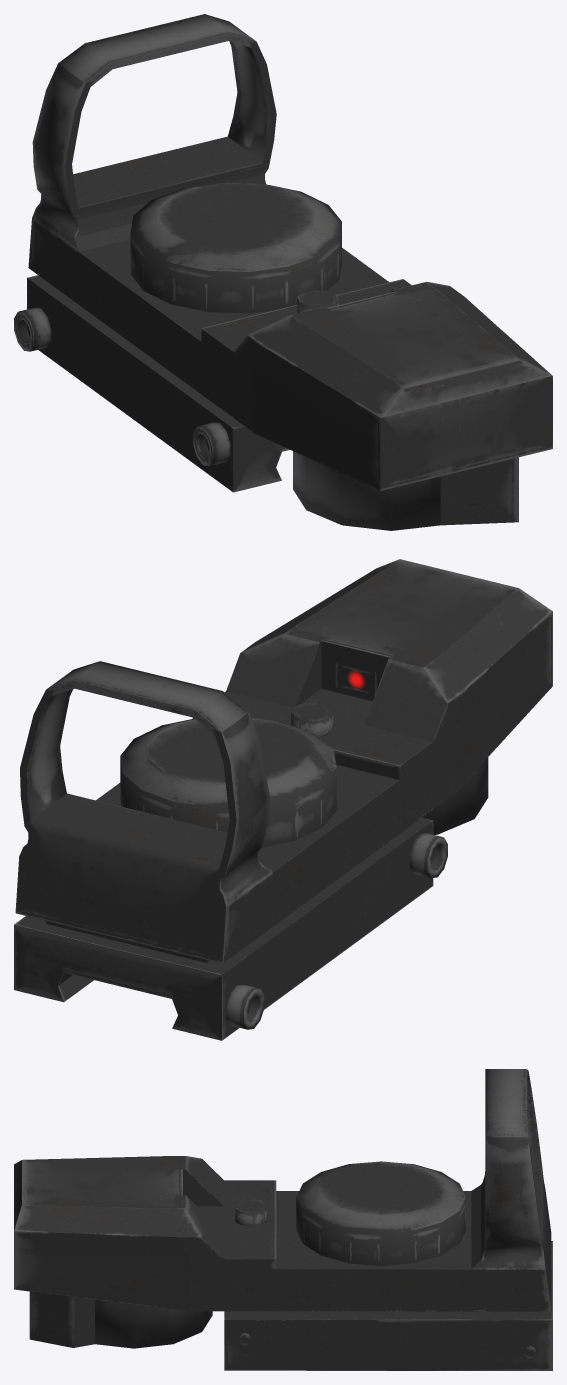
Rendered from aimpoint.glb.
The picture shows the model from 3 angles, top to bottom: view 1: azimuth 30°, elevation 25°; view 2: azimuth 150°, elevation 25°; view 3: azimuth 270°, elevation 25°; orthographic projection. The views are drawn at different scales.
Parts seen in each view (by area): view 1: aimpoint_reddot_sight_anisotropic1_0; view 2: aimpoint_reddot_sight_anisotropic1_0; view 3: aimpoint_reddot_sight_anisotropic1_0.
Boxes of the visible parts, x1=… form: aimpoint_reddot_sight_anisotropic1_0: x1=14, y1=14, x2=552, y2=530; aimpoint_reddot_sight_anisotropic1_0: x1=14, y1=559, x2=552, y2=1040; aimpoint_reddot_sight_anisotropic1_0: x1=14, y1=1069, x2=552, y2=1370.
Bounding box in the file's own units: 0.0441 × 0.0563 × 0.115.
1 material, 1 textured.
